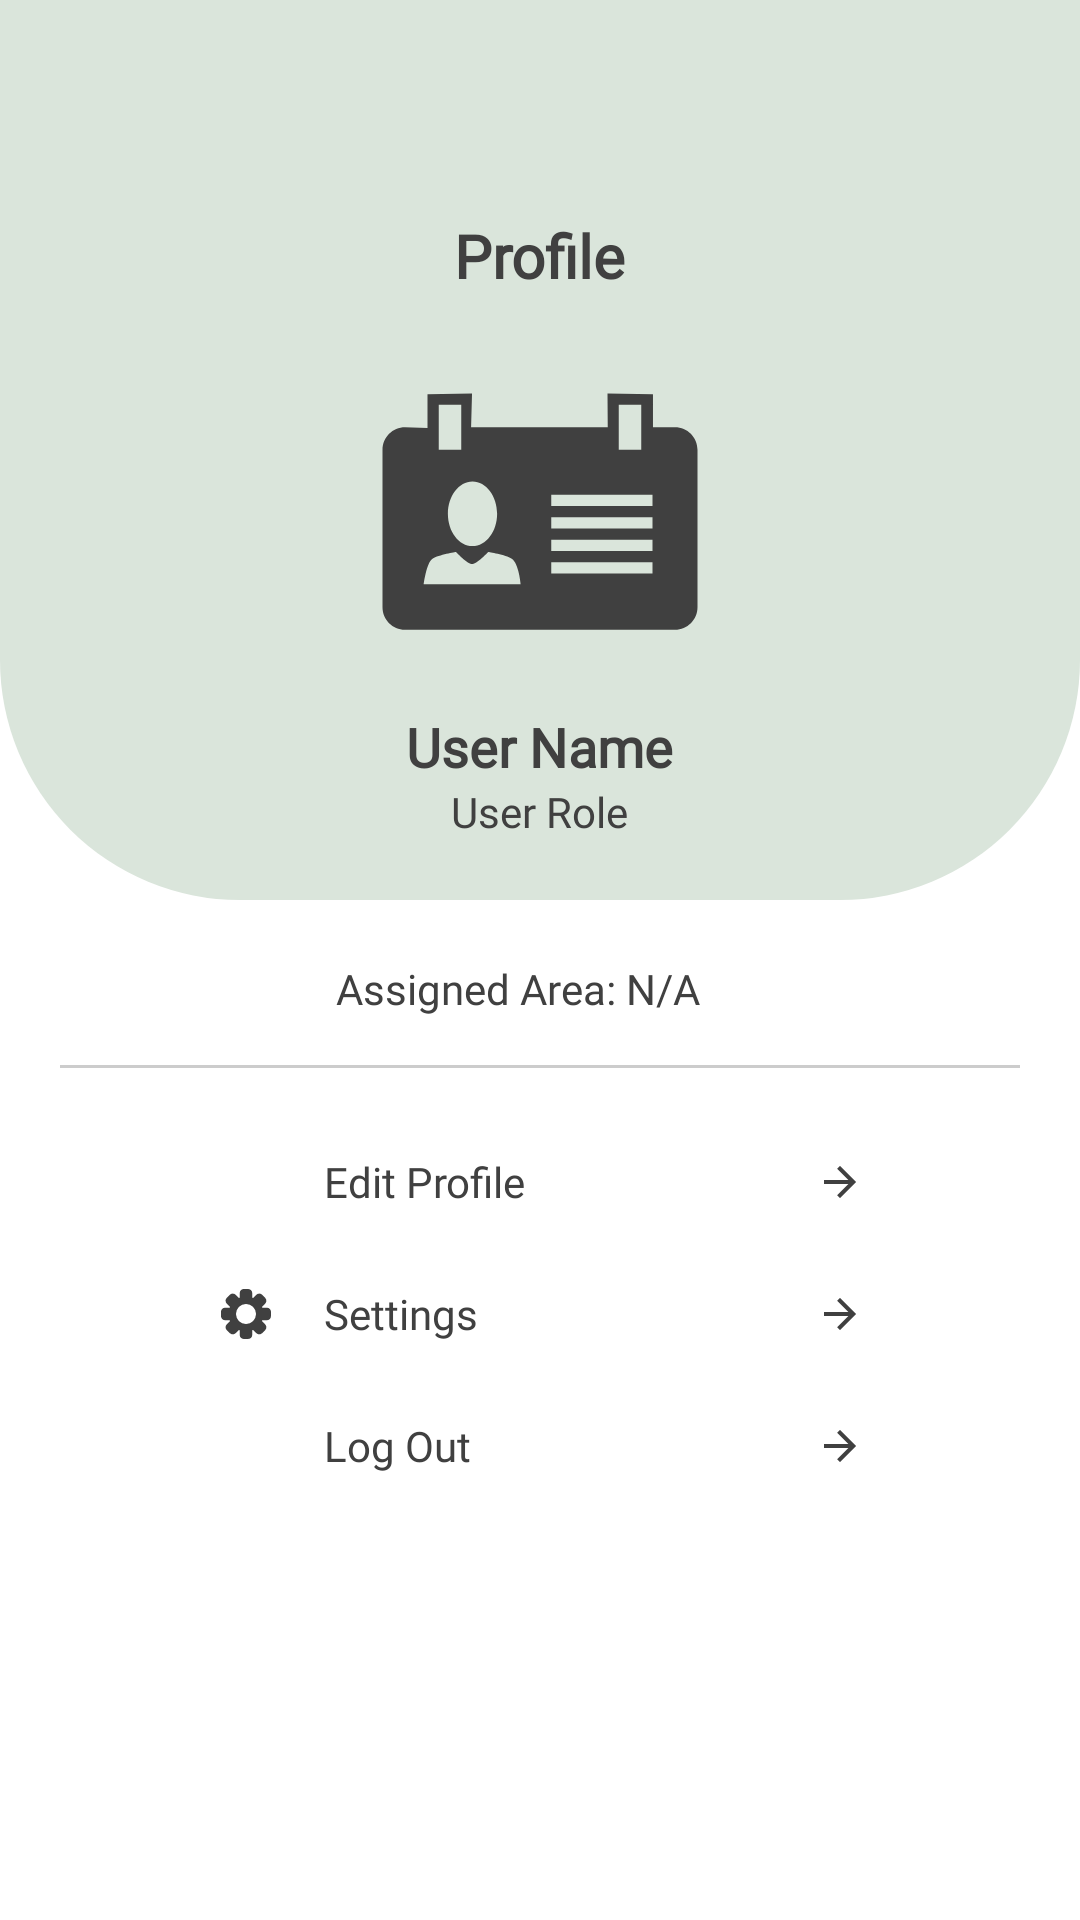

Screen size 1080x1920. Icon name, then its center in pixels as (x=x, y=y):
forward: (x=840, y=1182), (x=840, y=1314), (x=840, y=1446)
